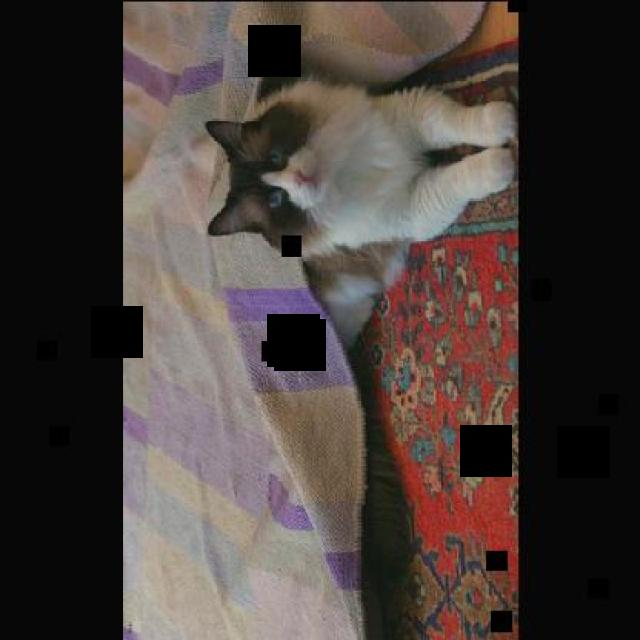unauthorized: (203, 56, 517, 350)
